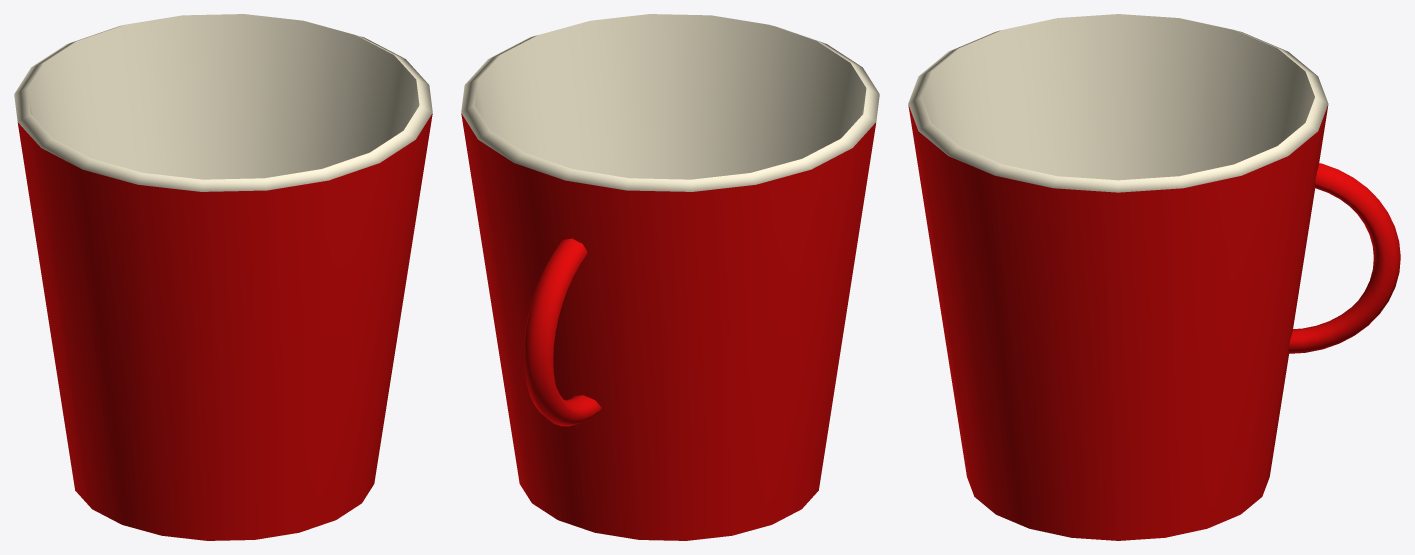
File: Cup_Red.fbx
3 renders of one model, left to right at view 1: azimuth 30°, elevation 25°; view 2: azimuth 150°, elevation 25°; view 3: azimuth 270°, elevation 25°, orthographic.
Parts seen in each view (by area): view 1: pCylinder2; view 2: pCylinder2; view 3: pCylinder2.
Part boxes in pixels (box(x1,y1,x2,y2)): pCylinder2: box(14, 14, 432, 540); pCylinder2: box(461, 14, 879, 540); pCylinder2: box(908, 14, 1400, 540).
Size of the model in its own units: 17.74 by 17.69 by 20.79.
